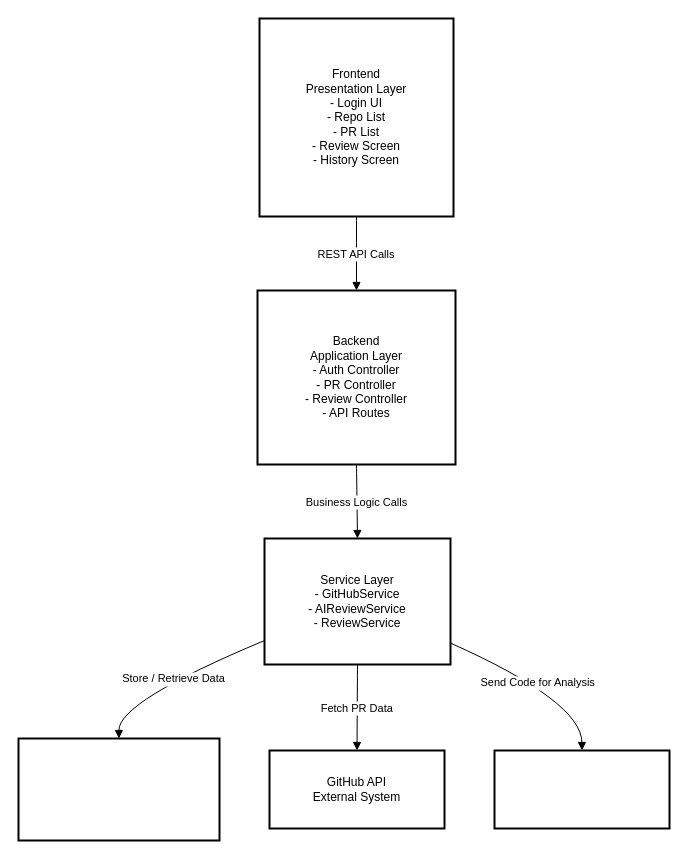
Image size: 687x858. Some labels were removed from this diagram. The box of each missing label's shape, as (x1, y1, x2, y2) in pixels:
Data Layer - Review Repository - Database: (17, 737, 220, 841)
LLM API External System: (493, 749, 670, 829)
